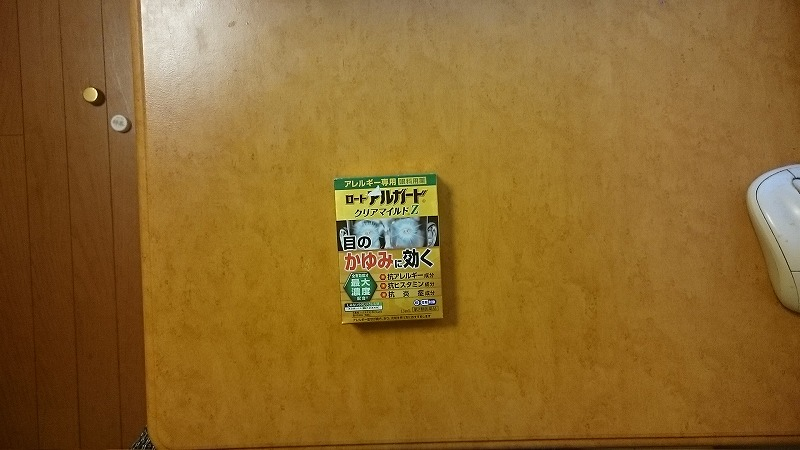C: (331, 174, 451, 331)
